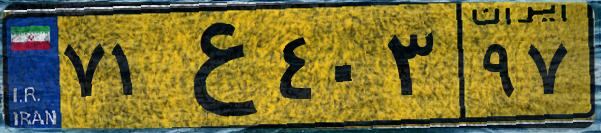0: (330, 28, 385, 110)
1: (110, 28, 158, 98)
3: (385, 28, 445, 110)
4: (270, 28, 330, 110)
7: (57, 26, 110, 100), (525, 38, 570, 115)
9: (475, 38, 525, 113)
ع: (158, 12, 270, 120)
